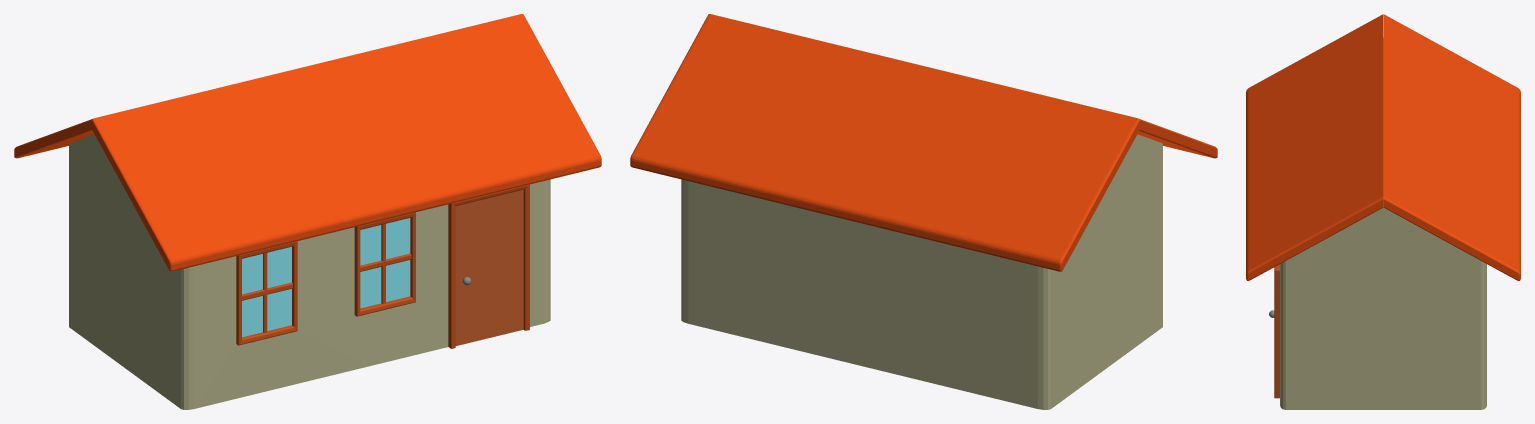
Rendered from house_cartoon.fbx.
The picture shows the model from 3 angles, left to right: view 1: azimuth 30°, elevation 25°; view 2: azimuth 150°, elevation 25°; view 3: azimuth 270°, elevation 25°; orthographic projection. The views are drawn at different scales.
Parts seen in each view (by area): view 1: rummah; view 2: rummah; view 3: rummah.
Boxes of the visible parts, x1,y1,x2,y2 form: rummah: [14, 14, 601, 409]; rummah: [630, 14, 1217, 409]; rummah: [1246, 14, 1520, 409].
Bounding box in the file's own units: 934 × 532 × 589.
